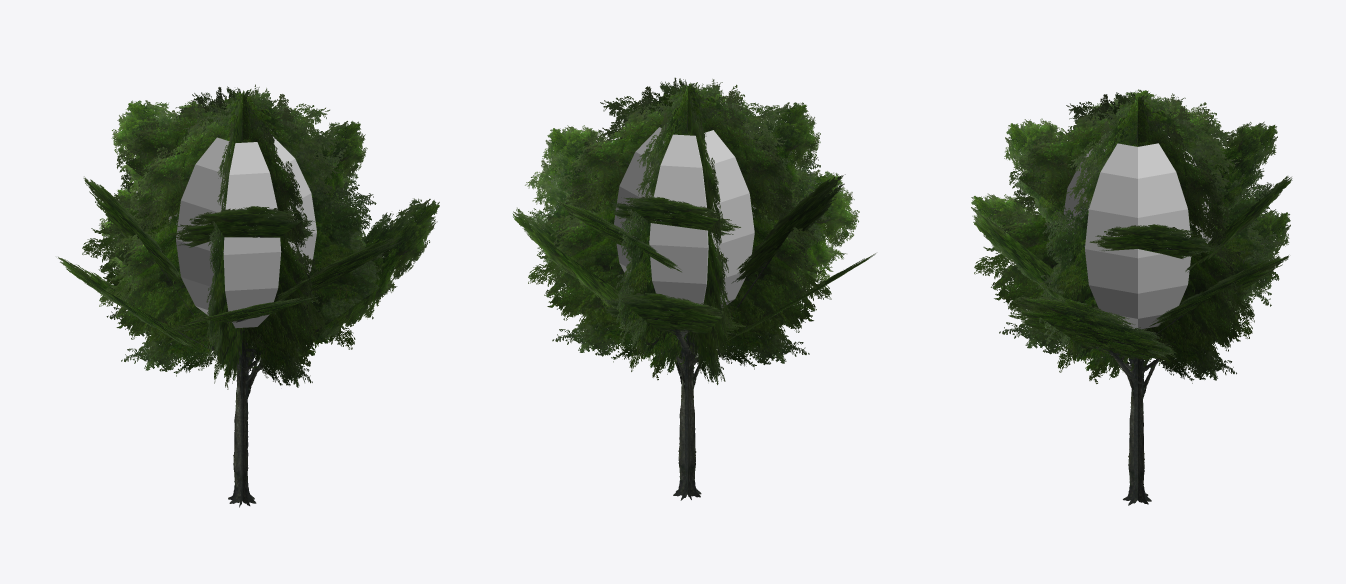
Rendered from Tree_02_WithBlob.fbx.
The picture shows the model from 3 angles, left to right: view 1: azimuth 30°, elevation 25°; view 2: azimuth 150°, elevation 25°; view 3: azimuth 270°, elevation 25°; orthographic projection.
Visible parts, largest first — view 1: Tree_02; view 2: Tree_02; view 3: Tree_02.
Boxes of the visible parts, x1,y1,x2,y2 form: Tree_02: [58, 84, 439, 507]; Tree_02: [512, 77, 875, 500]; Tree_02: [971, 89, 1292, 505].
Size of the model in its own units: 1332 by 1420 by 1201.
